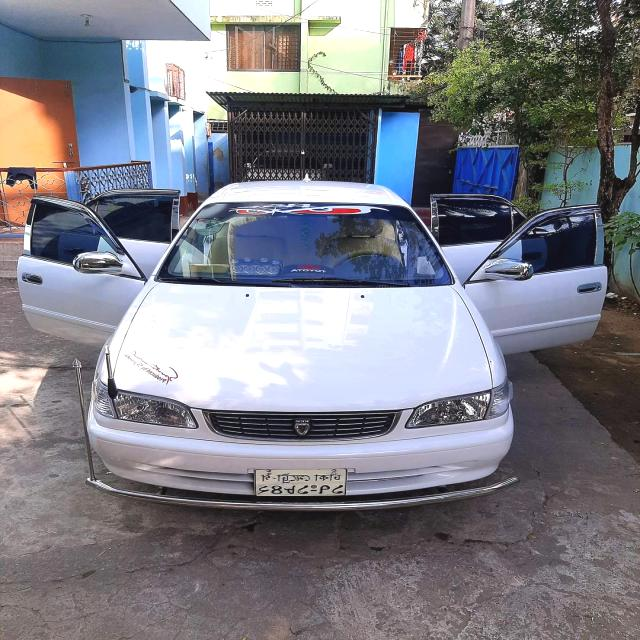white: (81, 167, 537, 527)
